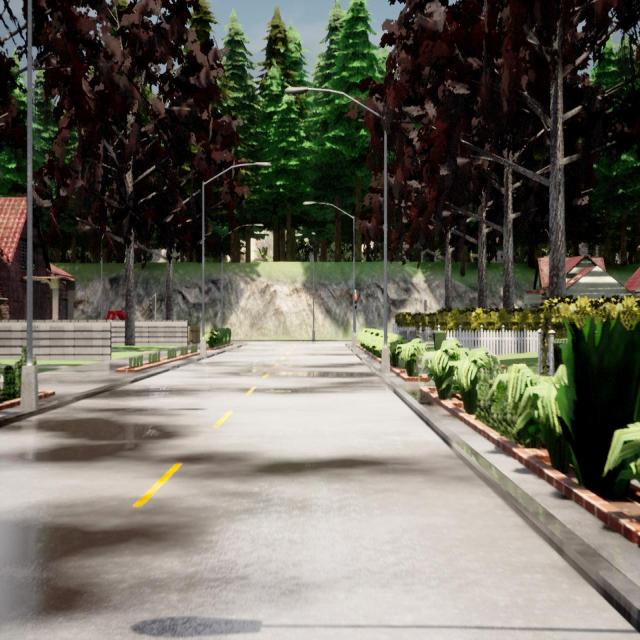traffic_light: (354, 295, 358, 310), (424, 299, 427, 311)
